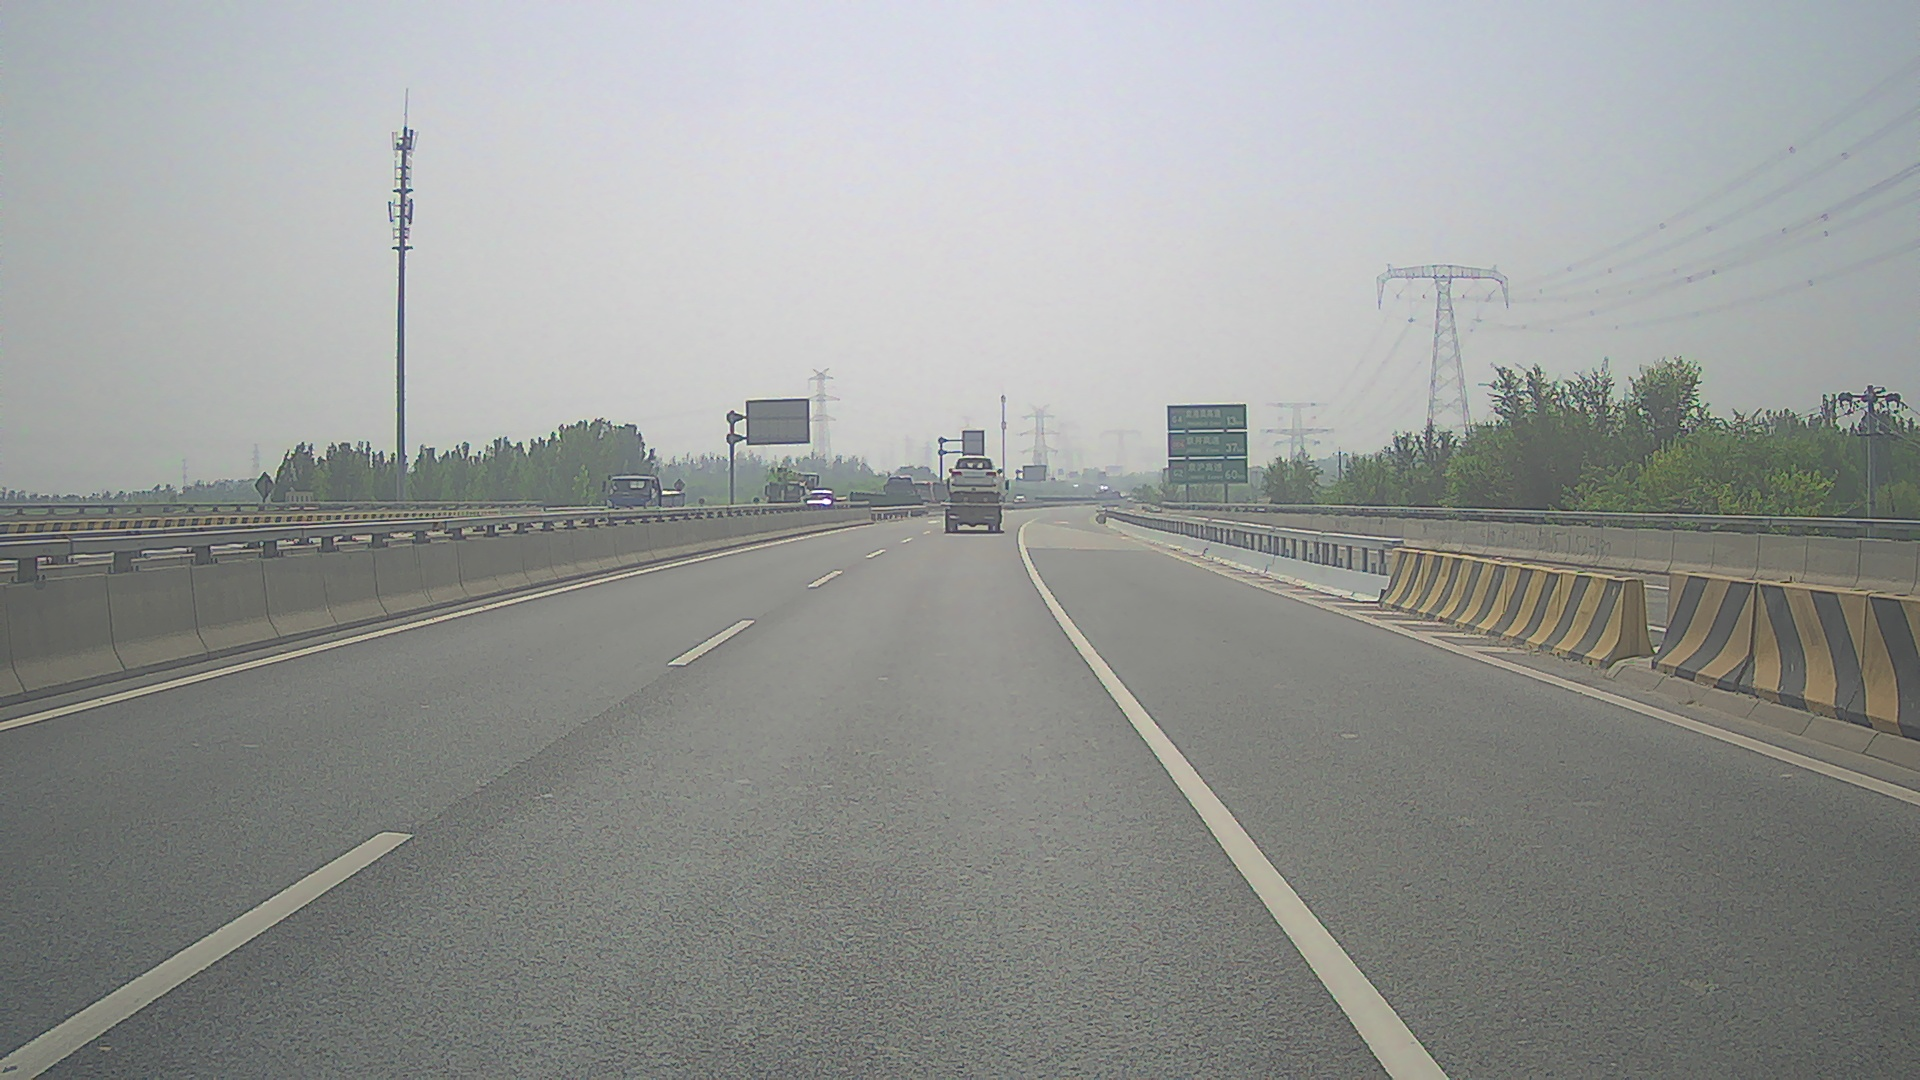car: (804, 489, 836, 514)
ignore: (783, 472, 819, 512)
truck: (601, 473, 684, 526), (940, 472, 1007, 531), (764, 481, 808, 517), (882, 475, 915, 506)
